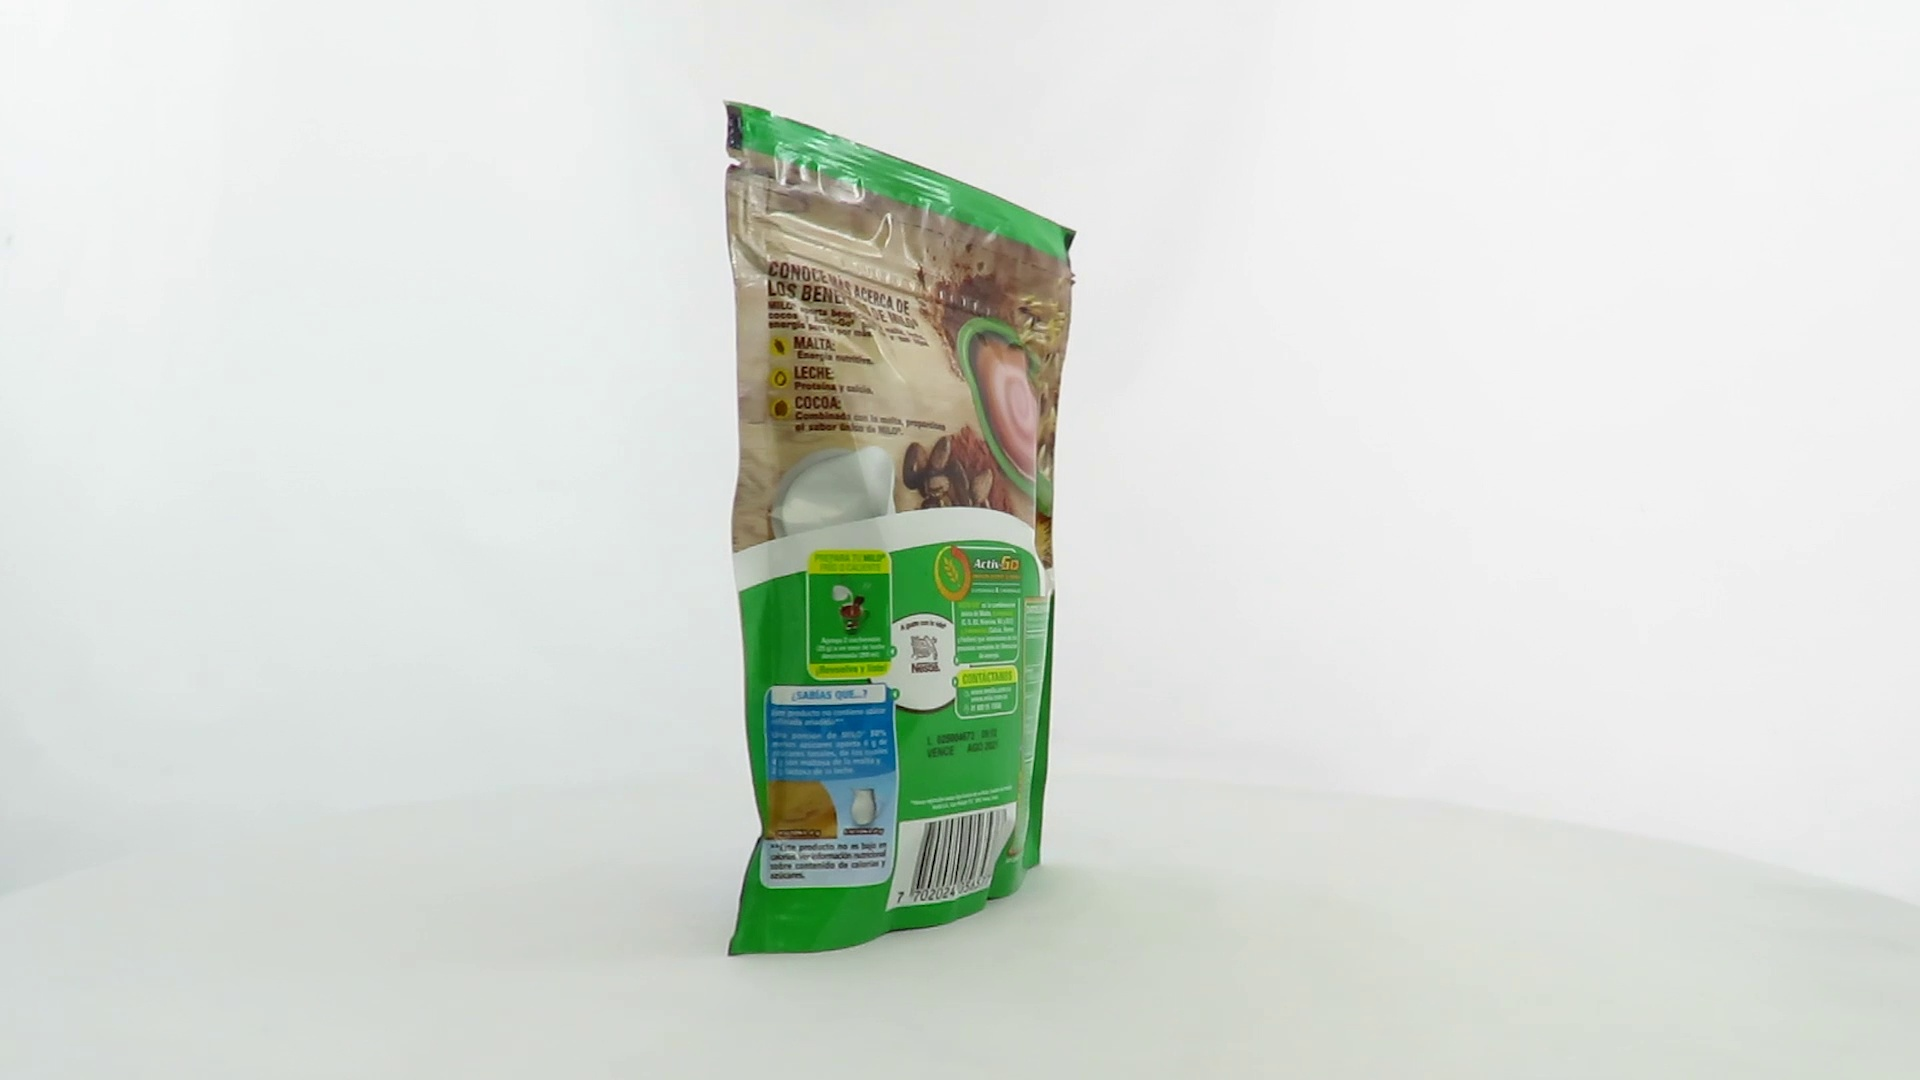COL0170205DYP20000: (717, 94, 1083, 963)
